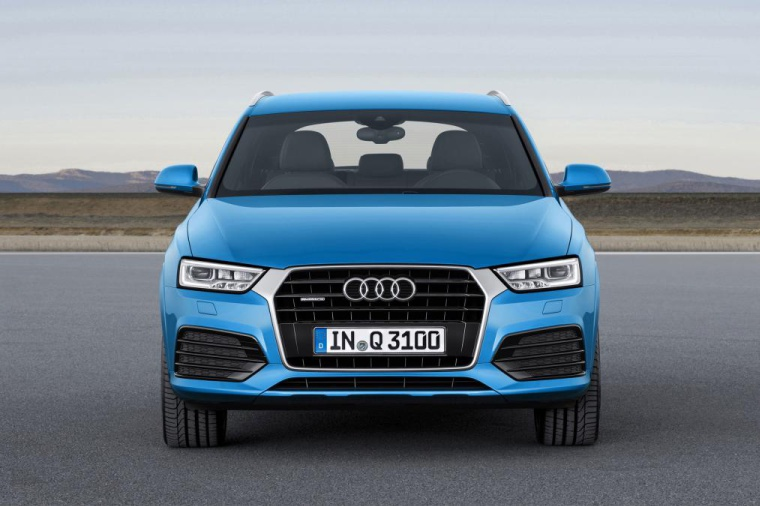audi: (339, 275, 422, 310)
